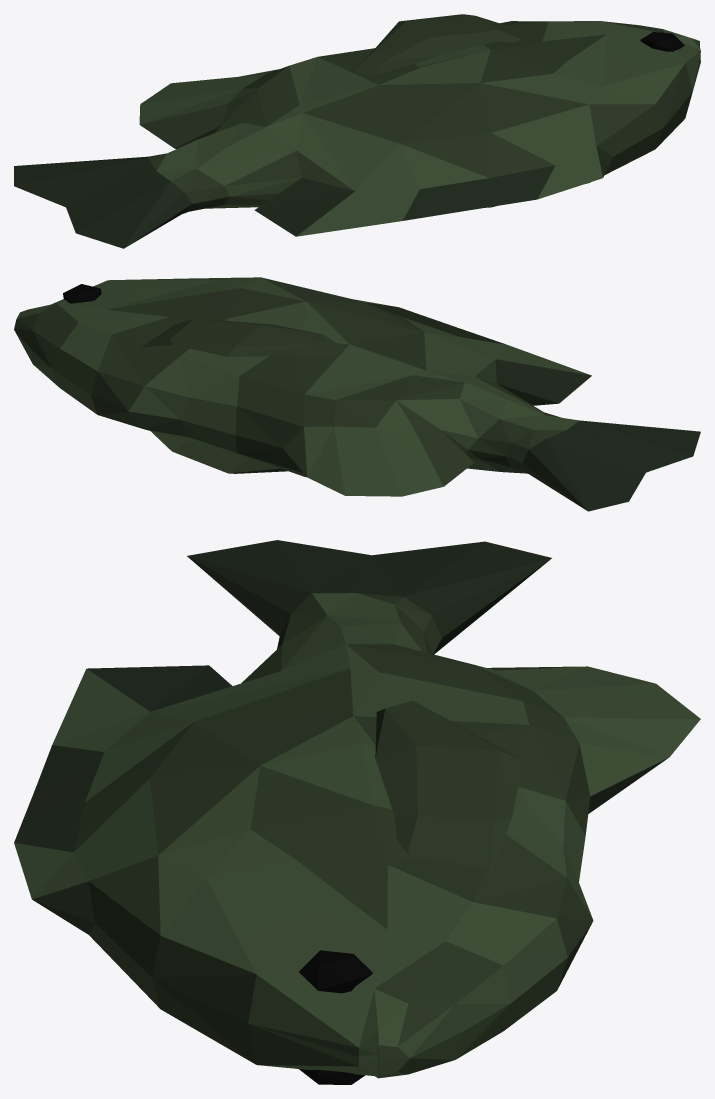
Rendered from BluegillDrip.glb.
The picture shows the model from 3 angles, top to bottom: view 1: azimuth 30°, elevation 25°; view 2: azimuth 150°, elevation 25°; view 3: azimuth 270°, elevation 25°; orthographic projection. The views are drawn at different scales.
Parts seen in each view (by area): view 1: BluegillDrip; view 2: BluegillDrip; view 3: BluegillDrip.
Part boxes in pixels (x1,y1,x2,y2): BluegillDrip: [14, 14, 700, 248]; BluegillDrip: [14, 277, 700, 511]; BluegillDrip: [14, 540, 700, 1084].
Size of the model in its own units: 0.3878 by 0.0768 by 0.2159.
1 material, 1 textured.
